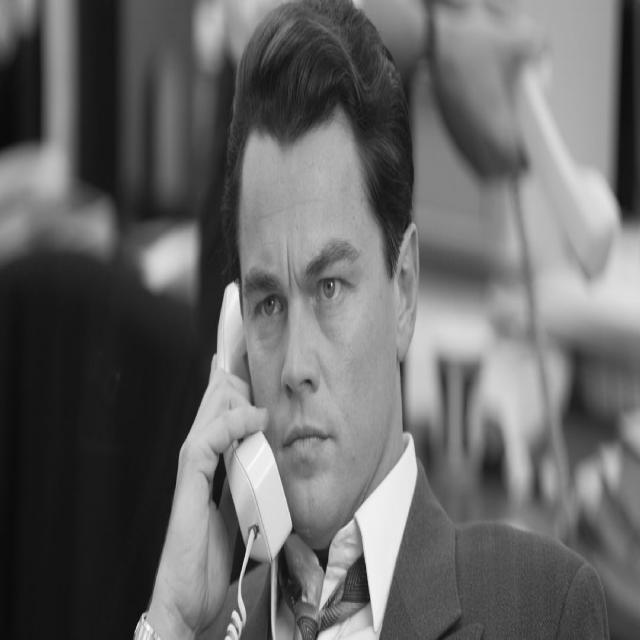phone: (164, 184, 310, 616)
